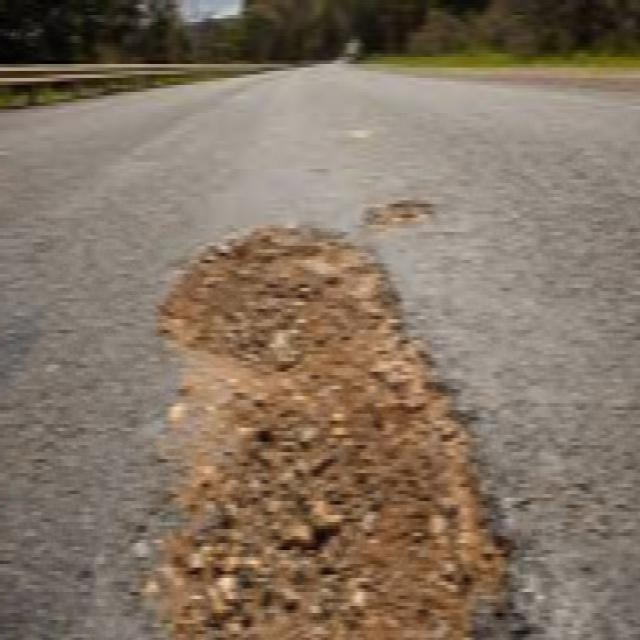Pothole: (140, 209, 527, 640), (360, 176, 438, 223)
